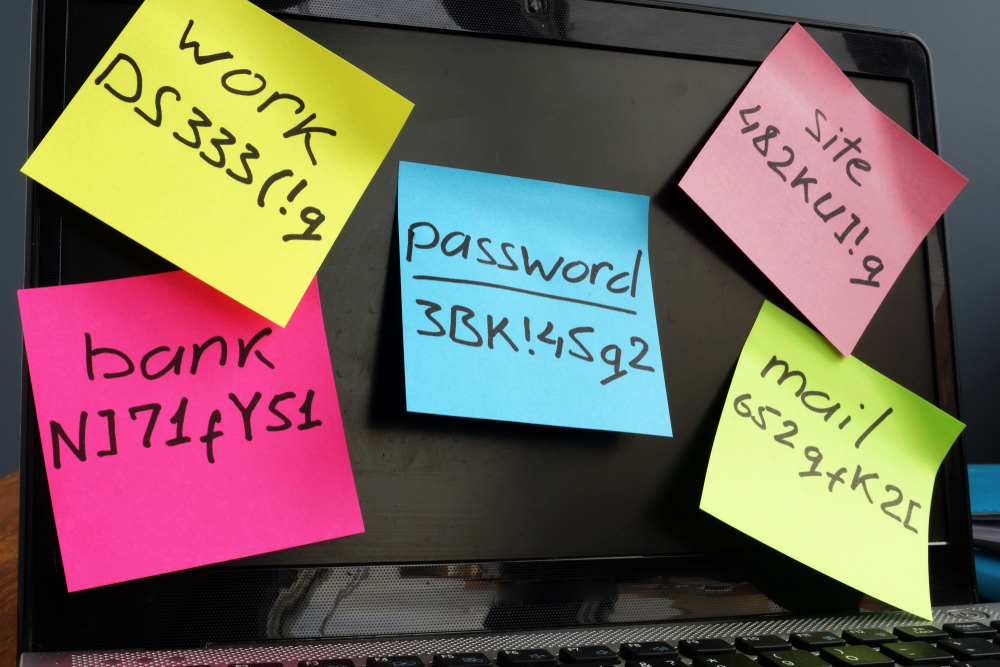Note: (17, 3, 411, 315), (15, 268, 368, 593), (681, 17, 966, 359), (695, 299, 969, 631), (391, 158, 676, 441)
